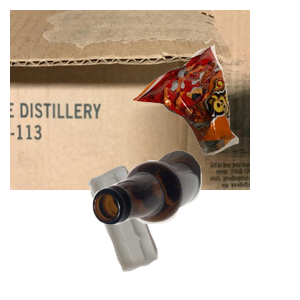cardboard: (10, 10, 250, 190)
glass: (90, 148, 300, 300)
plastic: (85, 163, 235, 300)
trash: (130, 43, 300, 190)
